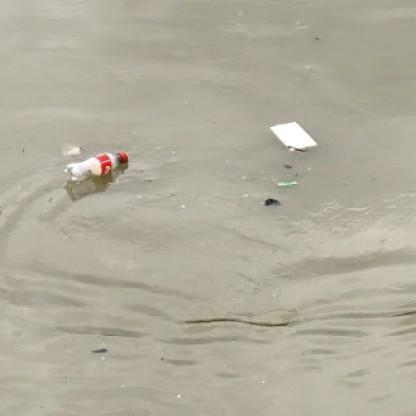Plastic: (63, 147, 130, 184)
Trash: (269, 118, 320, 153)
